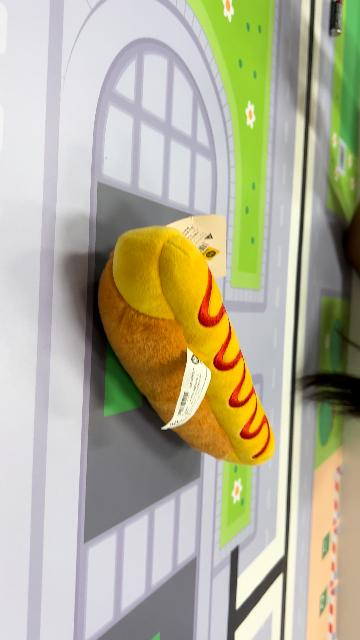hotdog: (97, 224, 277, 468)
